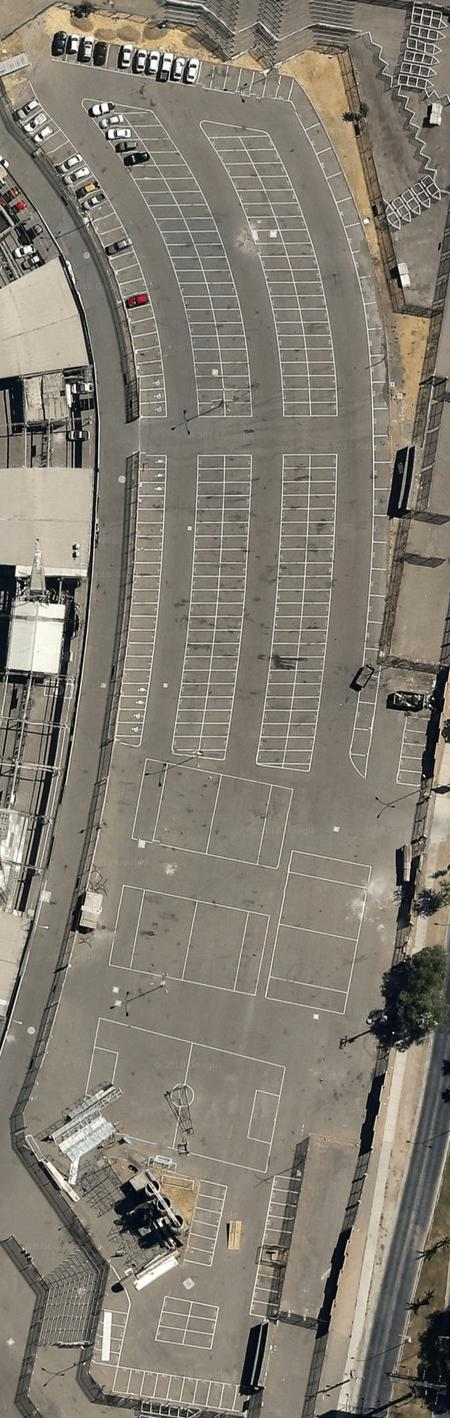parkingspot: (302, 121, 393, 758), (11, 79, 168, 418), (85, 101, 227, 418), (120, 111, 253, 418), (206, 136, 312, 417), (239, 135, 339, 417), (49, 31, 296, 104), (256, 453, 312, 765), (283, 453, 339, 765), (170, 454, 227, 751), (199, 453, 254, 751), (114, 452, 169, 739), (248, 1174, 304, 1321), (112, 1364, 253, 1413), (0, 173, 44, 277), (183, 1178, 230, 1268), (395, 715, 433, 787), (91, 1307, 132, 1368), (153, 1295, 194, 1347), (182, 1300, 222, 1351)
